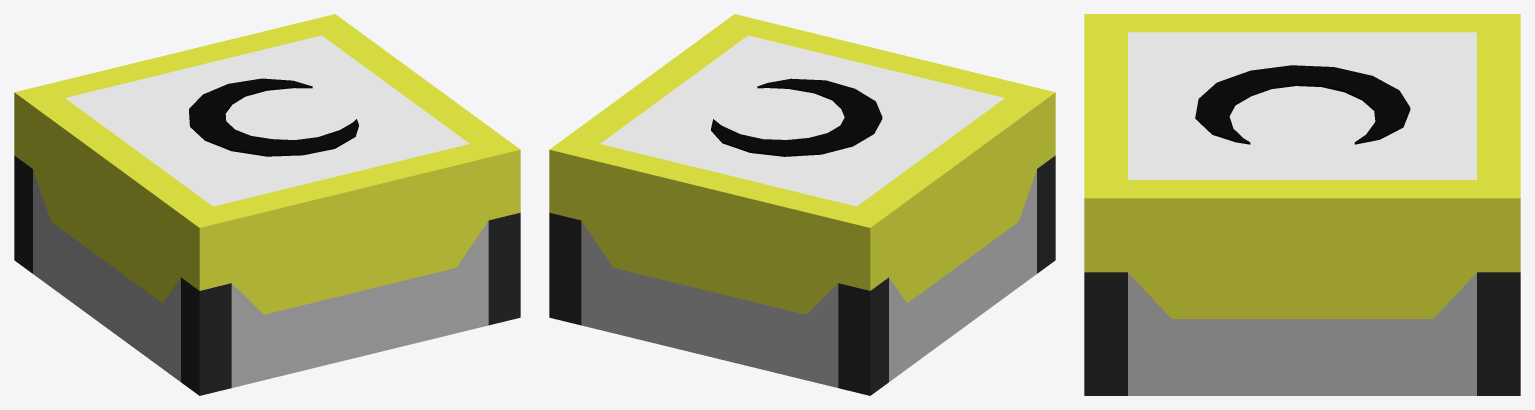
Rendered from MoonDummy.fbx.
3 renders of one model, left to right at view 1: azimuth 30°, elevation 25°; view 2: azimuth 150°, elevation 25°; view 3: azimuth 270°, elevation 25°, orthographic. The views are drawn at different scales.
Visible parts, largest first — view 1: MoonTile, Moon001; view 2: MoonTile, Moon001; view 3: MoonTile, Moon001.
Part boxes in pixels (x1,y1,x2,y2): MoonTile: [14, 14, 520, 395]; Moon001: [189, 78, 358, 156]; MoonTile: [549, 14, 1055, 395]; Moon001: [711, 78, 882, 156]; MoonTile: [1084, 14, 1520, 395]; Moon001: [1195, 65, 1410, 144].
Size of the model in its own units: 5 by 2.53 by 5.
